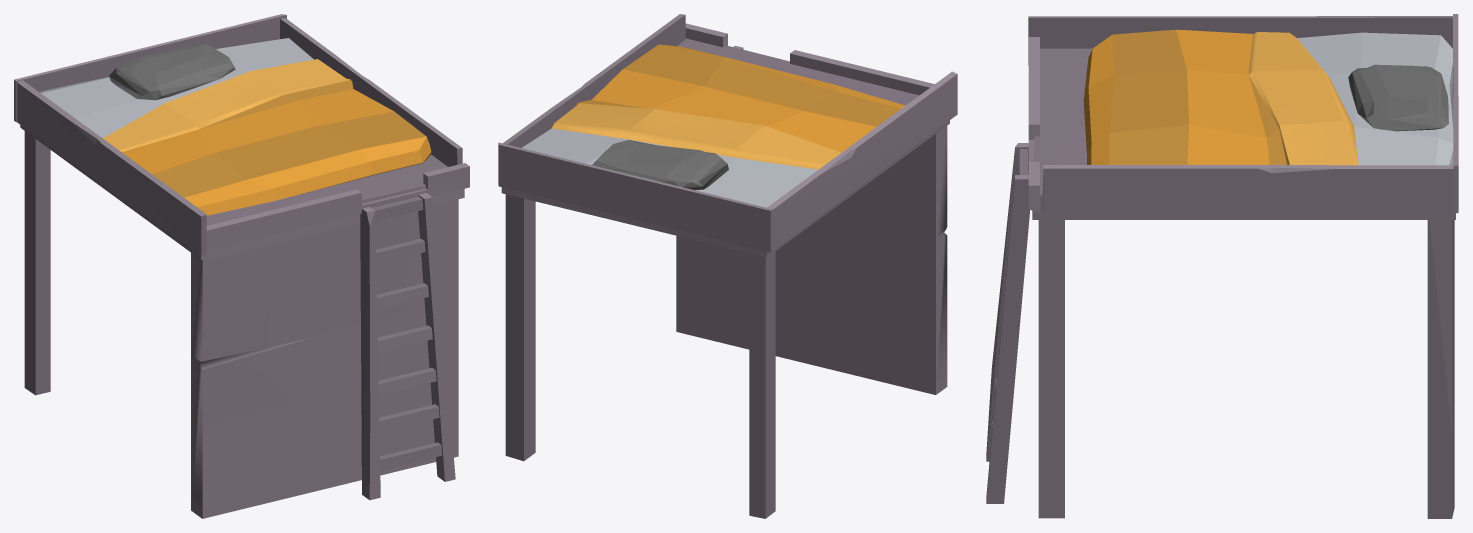
Rendered from Bed_Dubble_high_Yellow.fbx.
The picture shows the model from 3 angles, left to right: view 1: azimuth 30°, elevation 25°; view 2: azimuth 150°, elevation 25°; view 3: azimuth 270°, elevation 25°; orthographic projection. The views are drawn at different scales.
Visible parts, largest first — view 1: Bed_Dubble_high_Yellow; view 2: Bed_Dubble_high_Yellow; view 3: Bed_Dubble_high_Yellow.
Part boxes in pixels (<box>): Bed_Dubble_high_Yellow: <box>14,14,469,518</box>; Bed_Dubble_high_Yellow: <box>498,14,957,518</box>; Bed_Dubble_high_Yellow: <box>986,14,1458,518</box>.
Size of the model in its own units: 1.96 by 2.18 by 2.56.
1 material, 1 textured.
